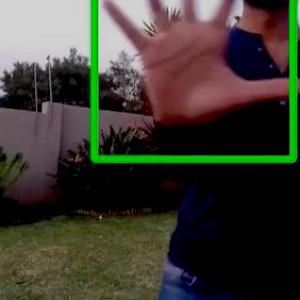follow_hand: (91, 0, 299, 139)
